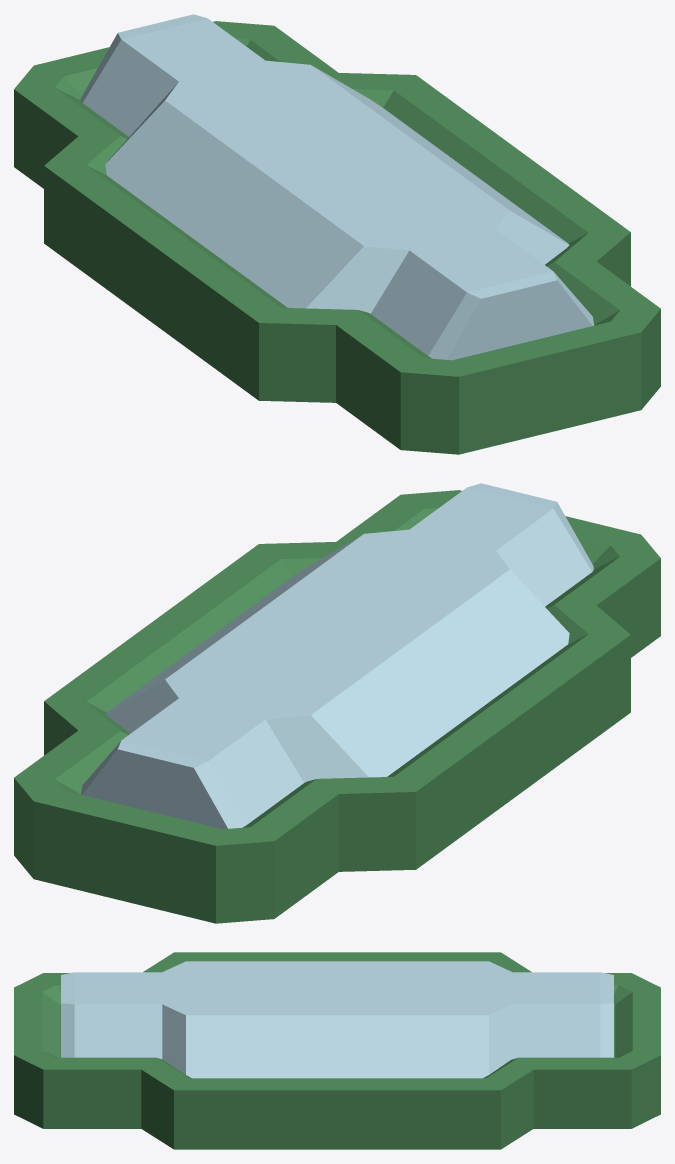
The model's file is Светильник 2.fbx.
3 renders of one model, top to bottom at view 1: azimuth 30°, elevation 25°; view 2: azimuth 150°, elevation 25°; view 3: azimuth 270°, elevation 25°, orthographic. The views are drawn at different scales.
Parts seen in each view (by area): view 1: Cube, Cube.001; view 2: Cube, Cube.001; view 3: Cube, Cube.001.
Boxes of the visible parts, box(x1,y1,x2,y2) form: Cube: box(14, 21, 660, 454); Cube.001: box(81, 14, 593, 360); Cube: box(14, 490, 660, 923); Cube.001: box(81, 483, 593, 829); Cube: box(14, 952, 660, 1149); Cube.001: box(61, 961, 613, 1078).
Size of the model in its own units: 100 by 31.17 by 198.
